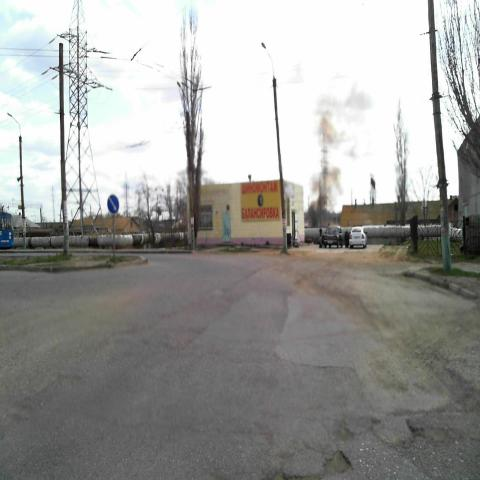4_2_1: (106, 193, 120, 215)
